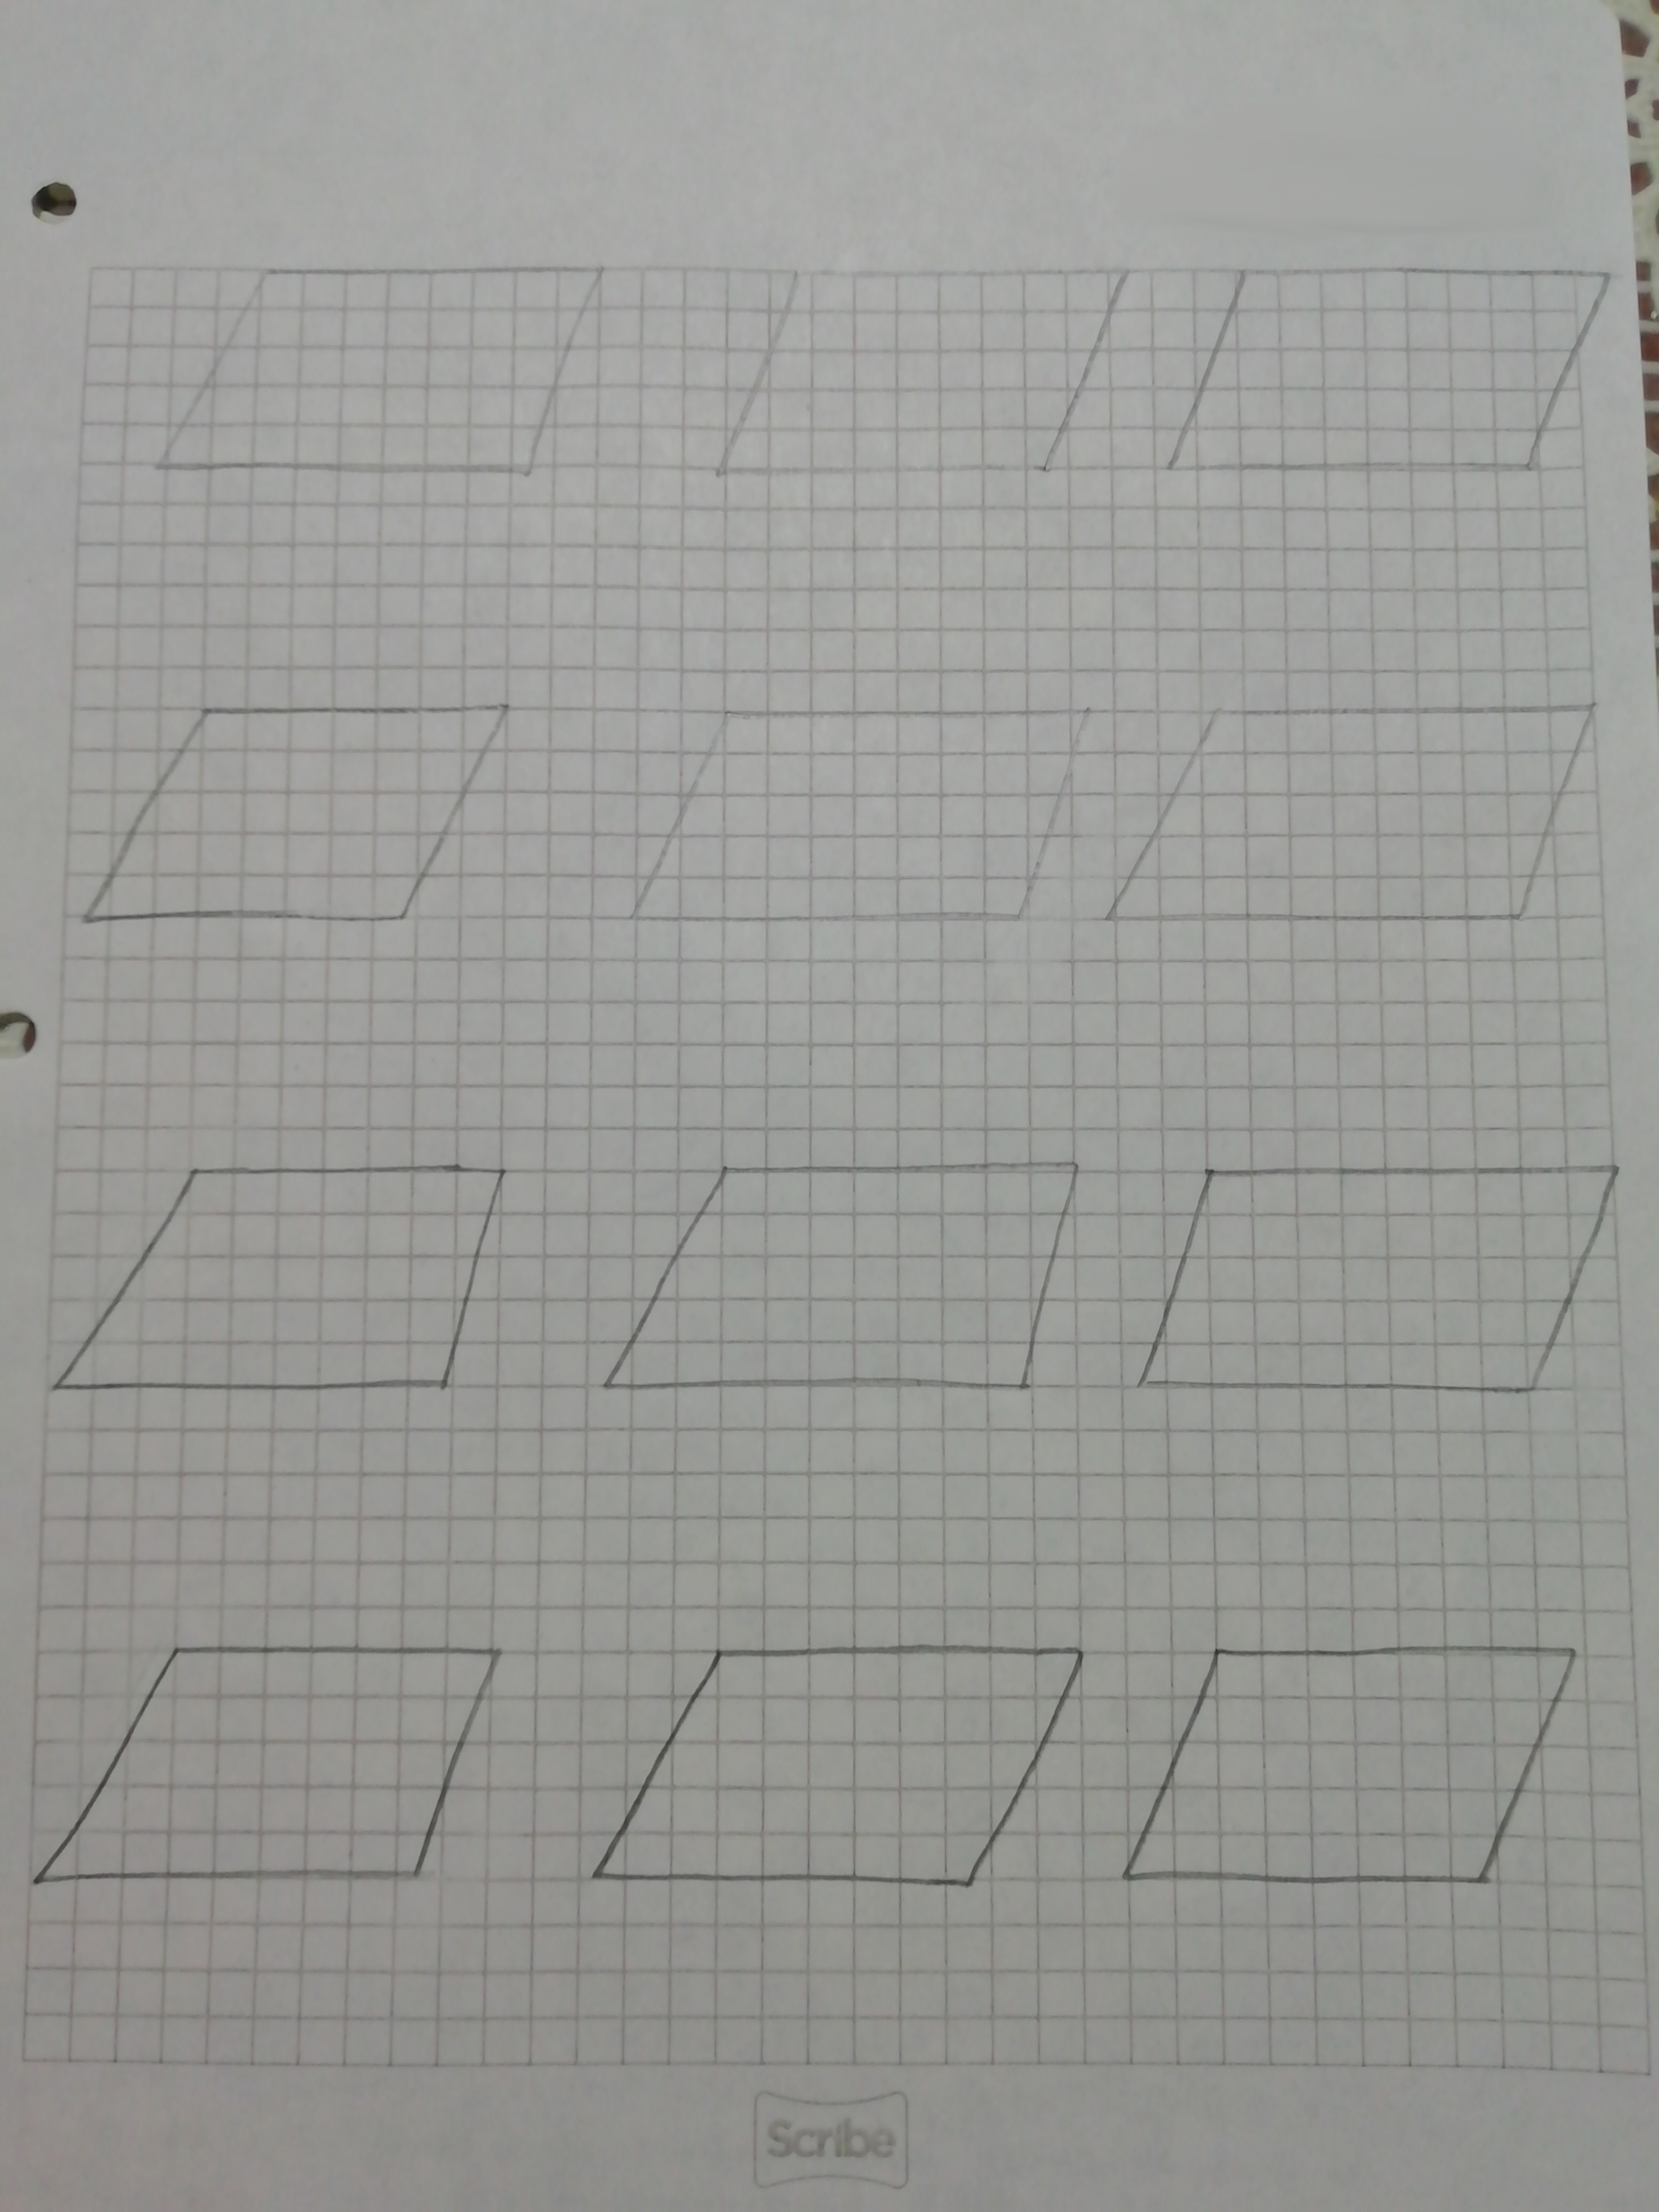scan: (572, 1609, 1103, 1928), (582, 1134, 1108, 1449), (16, 1616, 526, 1925), (1096, 660, 1612, 963), (12, 1137, 533, 1435), (122, 223, 640, 521), (1126, 1134, 1624, 1432), (1119, 1627, 1614, 1918), (44, 681, 540, 970), (681, 226, 1150, 528), (1157, 240, 1619, 524), (594, 688, 1093, 949)
